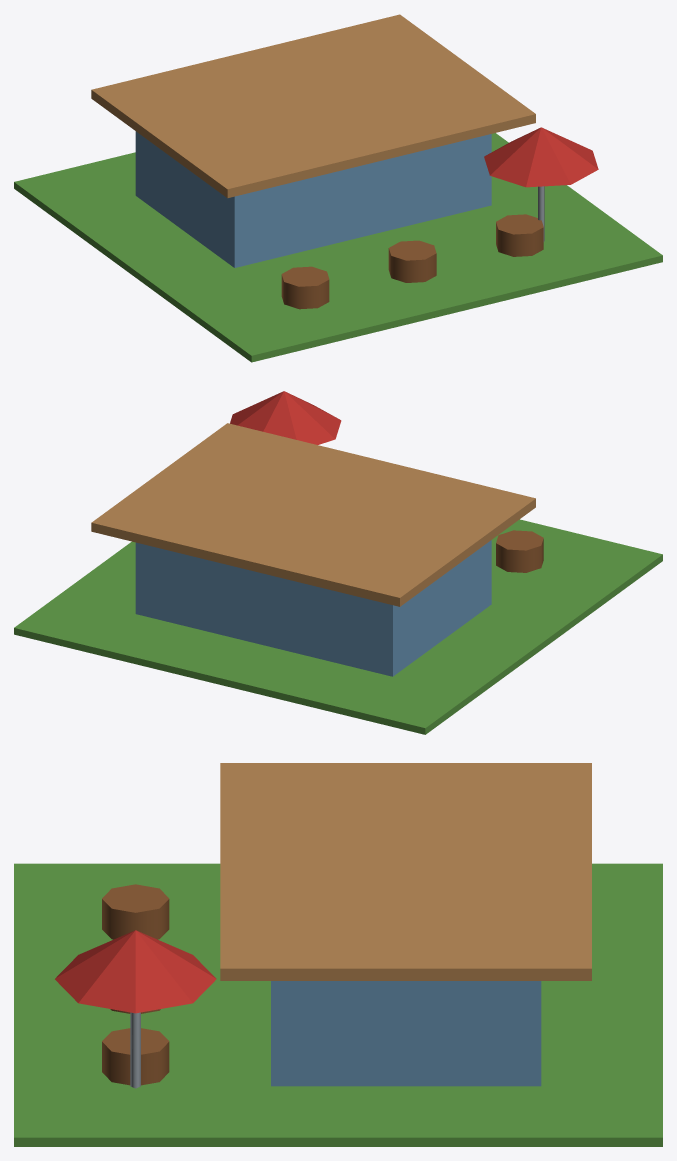
Rendered from zone_C_d1_e4.glb.
The picture shows the model from 3 angles, top to bottom: view 1: azimuth 30°, elevation 25°; view 2: azimuth 150°, elevation 25°; view 3: azimuth 270°, elevation 25°; orthographic projection. The views are drawn at different scales.
Parts seen in each view (by area): view 1: zone_C_d1_e4; view 2: zone_C_d1_e4; view 3: zone_C_d1_e4.
Boxes of the visible parts, x1,y1,x2,y2 form: zone_C_d1_e4: [14, 14, 662, 362]; zone_C_d1_e4: [14, 391, 662, 734]; zone_C_d1_e4: [14, 763, 662, 1146].
Bounding box in the file's own units: 0.96 × 0.27 × 0.96.
